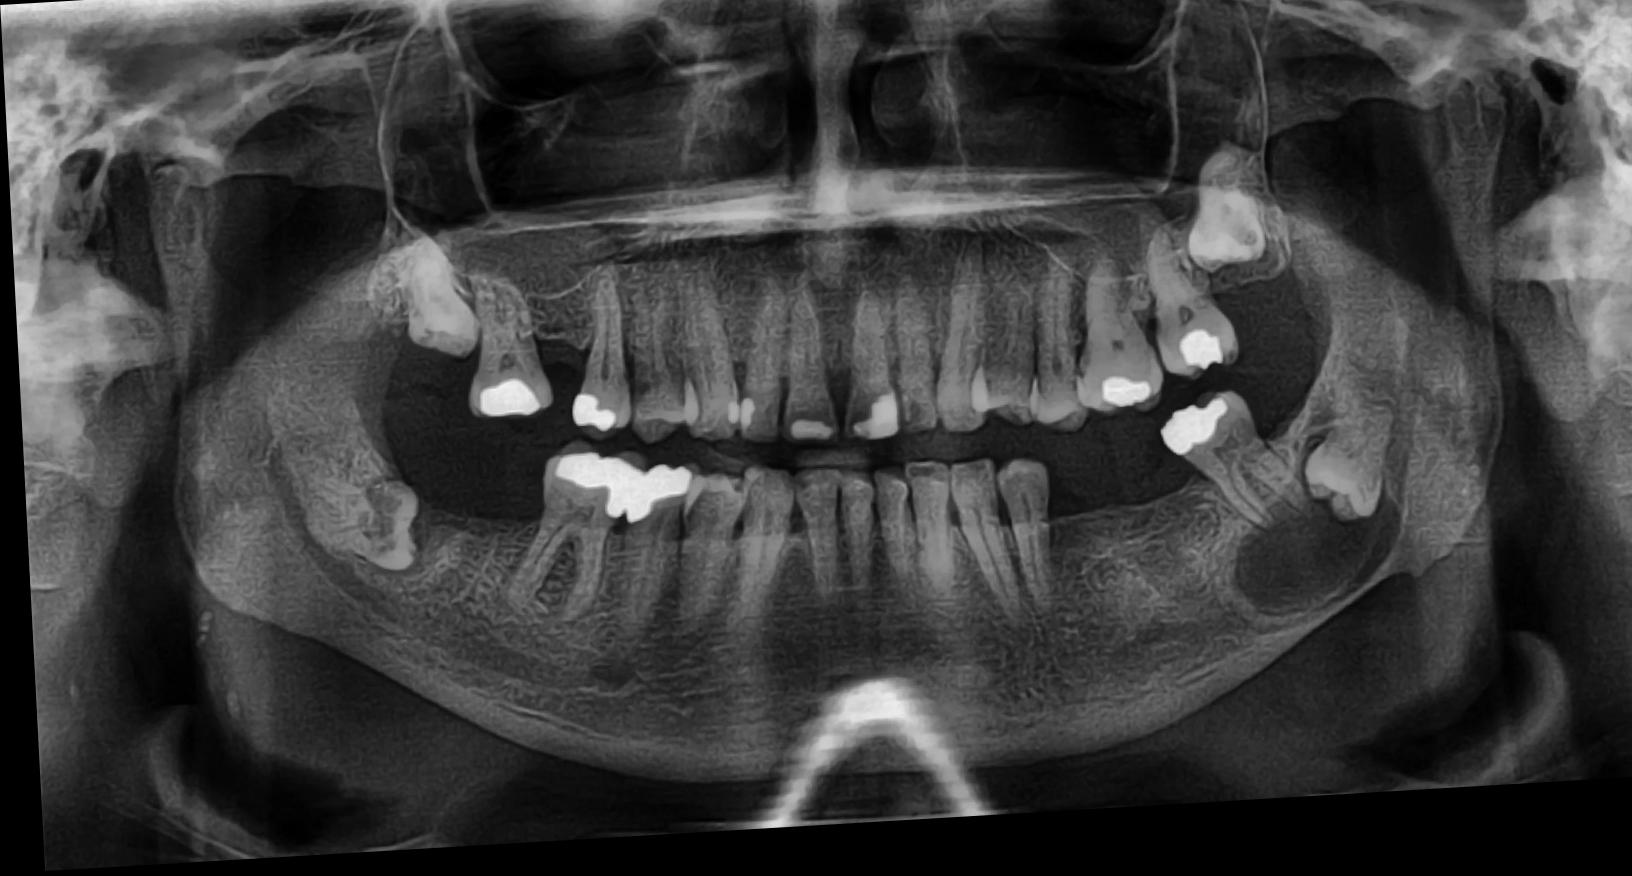dentigeroz: (1223, 442, 1403, 638)
